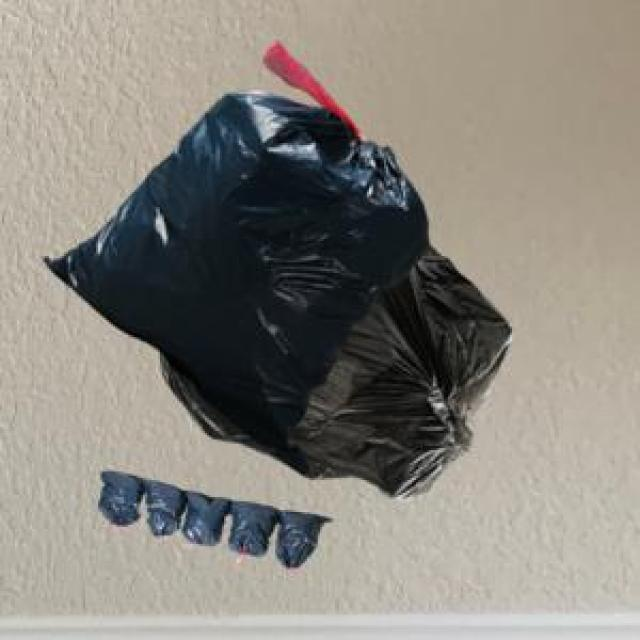Trashbag: (46, 81, 431, 447), (270, 511, 328, 569), (226, 500, 279, 560), (182, 487, 231, 549), (143, 479, 188, 537), (94, 470, 142, 522)
